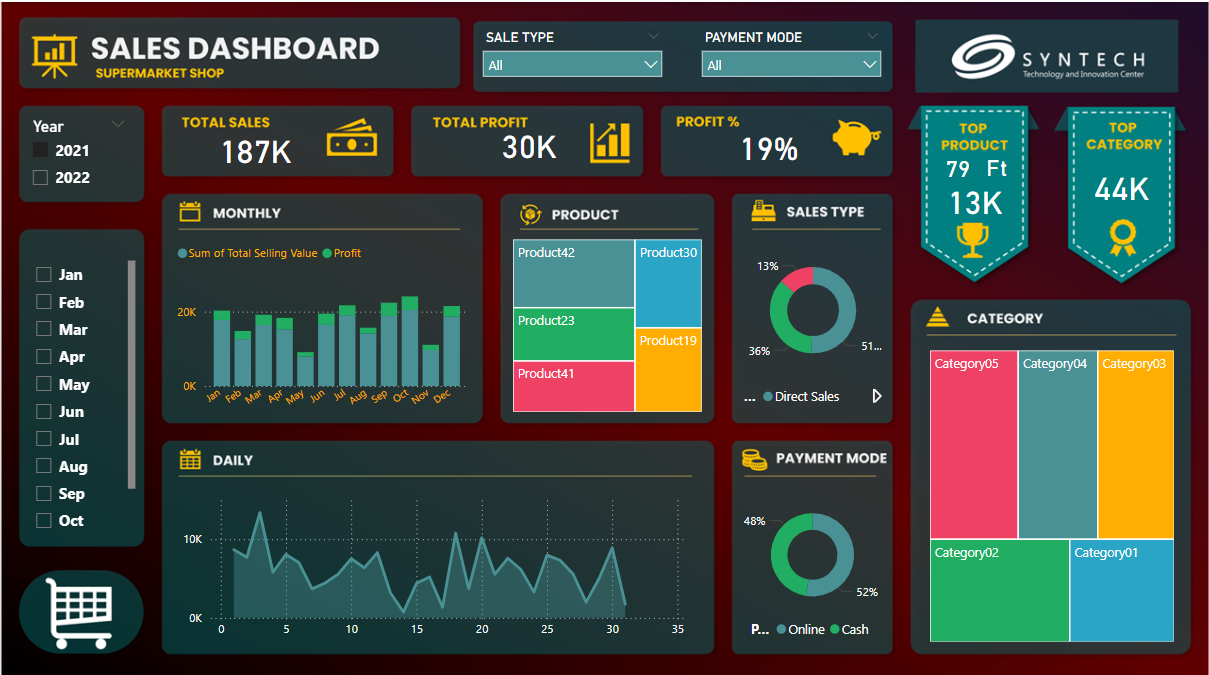

The dashboard page shown, as its layout file describes it:
{"tool":"powerbi","page":{"name":"Page 1","canvas":[1280,720],"ordinal":0},"visuals":[{"type":"slicer","fields":{"Values":["InputData.PAYMENT MODE"]},"box":[733.6,24.1,210.1,68.9],"z":0},{"type":"slicer","fields":{"Values":["InputData.Month Name"]},"box":[23.5,269,123.6,300.3],"z":1000},{"type":"slicer","fields":{"Values":["InputData.SALE TYPE"]},"box":[501.1,24.1,210.1,65.4],"z":2000},{"type":"slicer","fields":{"Values":["InputData.Year"]},"box":[20.3,115.7,123.6,97],"z":3000},{"type":"card","fields":{"Values":["Sum(InputData.Total Selling Value)"]},"box":[189.4,132.6,160.1,48.2],"z":4000},{"type":"card","fields":{"Values":["InputData.Profit %"]},"box":[768,127.4,91.3,49.9],"z":5000},{"type":"card","fields":{"Values":["Min(InputData.MasterData.UOM)"]},"box":[1031.5,153.3,49.9,44.8],"z":6000},{"type":"card","fields":{"Values":["Sum(InputData.QUANTITY)"]},"box":[979.8,156.7,68.9,37.9],"z":7000},{"type":"card","fields":{"Values":["Sum(InputData.Total Selling Value)"]},"box":[979.8,187.7,105,44.8],"z":8000},{"type":"card","fields":{"Values":["Sum(InputData.Total Selling Value)"]},"box":[1138.2,163.6,98.2,62],"z":9000},{"type":"card","fields":{"Values":["InputData.Profit"]},"box":[499.4,124,120.5,51.7],"z":10000},{"type":"columnChart","fields":{"Category":["InputData.Month Name"],"Y":["Sum(InputData.Total Selling Value)","InputData.Profit"]},"box":[181.4,247.1,319.1,192.4],"z":11000},{"type":"treemap","fields":{"Group":["InputData.MasterData.PRODUCT"],"Values":["Sum(InputData.Total Selling Value)"]},"box":[537.1,247.1,210,192.9],"z":12000},{"type":"areaChart","fields":{"Y":["Sum(InputData.Total Selling Value)"],"Category":["InputData.Day"]},"box":[187.7,513,544.3,168.9],"z":13000},{"type":"donutChart","fields":{"Category":["InputData.PAYMENT MODE"],"Y":["Sum(InputData.Total Selling Value)"]},"box":[780,517.1,161.4,167.1],"z":14000},{"type":"donutChart","fields":{"Category":["InputData.SALE TYPE"],"Y":["Sum(InputData.Total Selling Value)"]},"box":[782.1,245.6,156.4,192.4],"z":15000},{"type":"treemap","fields":{"Group":["InputData.MasterData.CATEGORY"],"Values":["Sum(InputData.Total Selling Value)"]},"box":[979.2,364.4,269,319.1],"z":16000}]}

Visuals, with their boxes in screenshot pixels (x1, y1, x2, y2), scaled from the page's 1280x720 canvas onto the 1209x675 screenshot:
slicer - InputData.PAYMENT MODE: x1=693 y1=23 x2=891 y2=87
slicer - InputData.Month Name: x1=22 y1=252 x2=139 y2=534
slicer - InputData.SALE TYPE: x1=473 y1=23 x2=672 y2=84
slicer - InputData.Year: x1=19 y1=108 x2=136 y2=199
card - Sum(InputData.Total Selling Value): x1=179 y1=124 x2=330 y2=170
card - InputData.Profit %: x1=725 y1=119 x2=812 y2=166
card - Min(InputData.MasterData.UOM): x1=974 y1=144 x2=1021 y2=186
card - Sum(InputData.QUANTITY): x1=925 y1=147 x2=991 y2=182
card - Sum(InputData.Total Selling Value): x1=925 y1=176 x2=1025 y2=218
card - Sum(InputData.Total Selling Value): x1=1075 y1=153 x2=1168 y2=212
card - InputData.Profit: x1=472 y1=116 x2=586 y2=165
columnChart - InputData.Month Name x Sum(InputData.Total Selling Value): x1=171 y1=232 x2=473 y2=412
treemap - InputData.MasterData.PRODUCT x Sum(InputData.Total Selling Value): x1=507 y1=232 x2=706 y2=412
areaChart - Sum(InputData.Total Selling Value) x InputData.Day: x1=177 y1=481 x2=691 y2=639
donutChart - InputData.PAYMENT MODE x Sum(InputData.Total Selling Value): x1=737 y1=485 x2=889 y2=641
donutChart - InputData.SALE TYPE x Sum(InputData.Total Selling Value): x1=739 y1=230 x2=886 y2=411
treemap - InputData.MasterData.CATEGORY x Sum(InputData.Total Selling Value): x1=925 y1=342 x2=1179 y2=641
